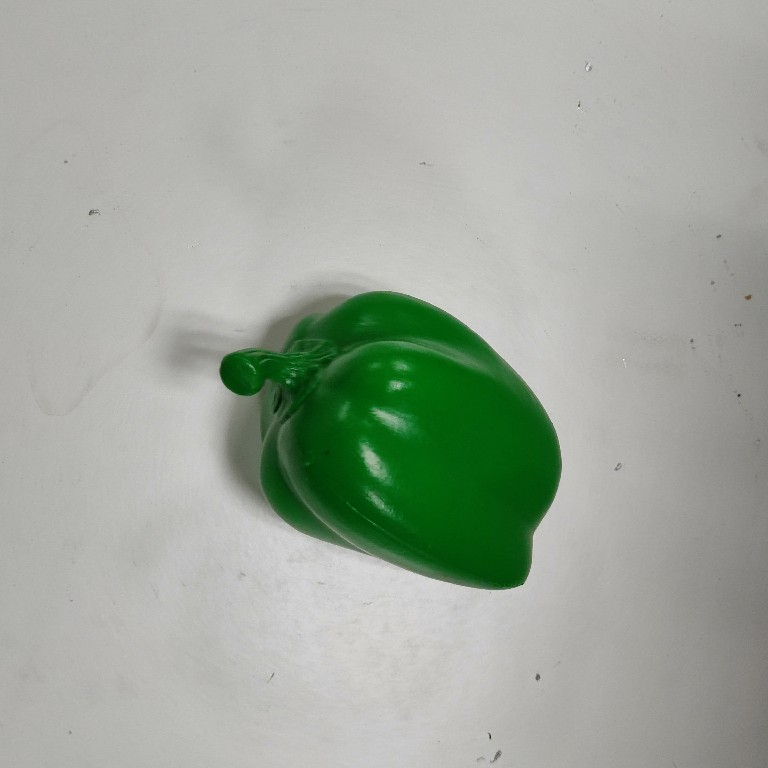fruit_pepper: (214, 287, 568, 595)
